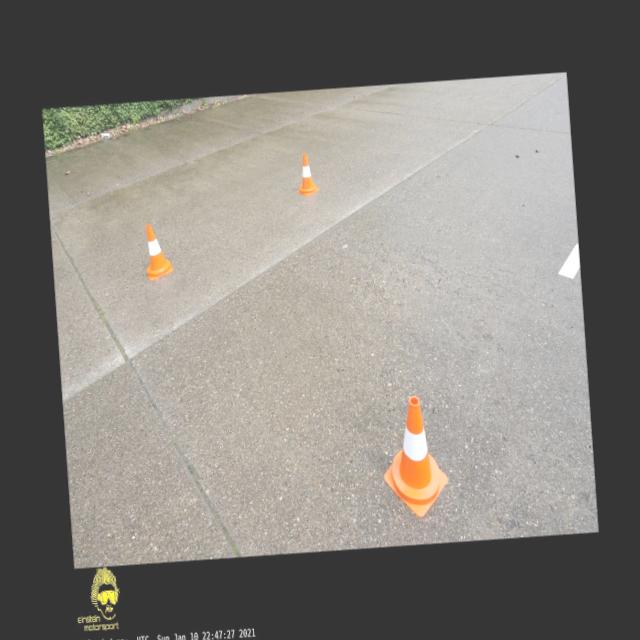orange_cone: (378, 394, 451, 521), (142, 222, 174, 280), (294, 152, 318, 196)
